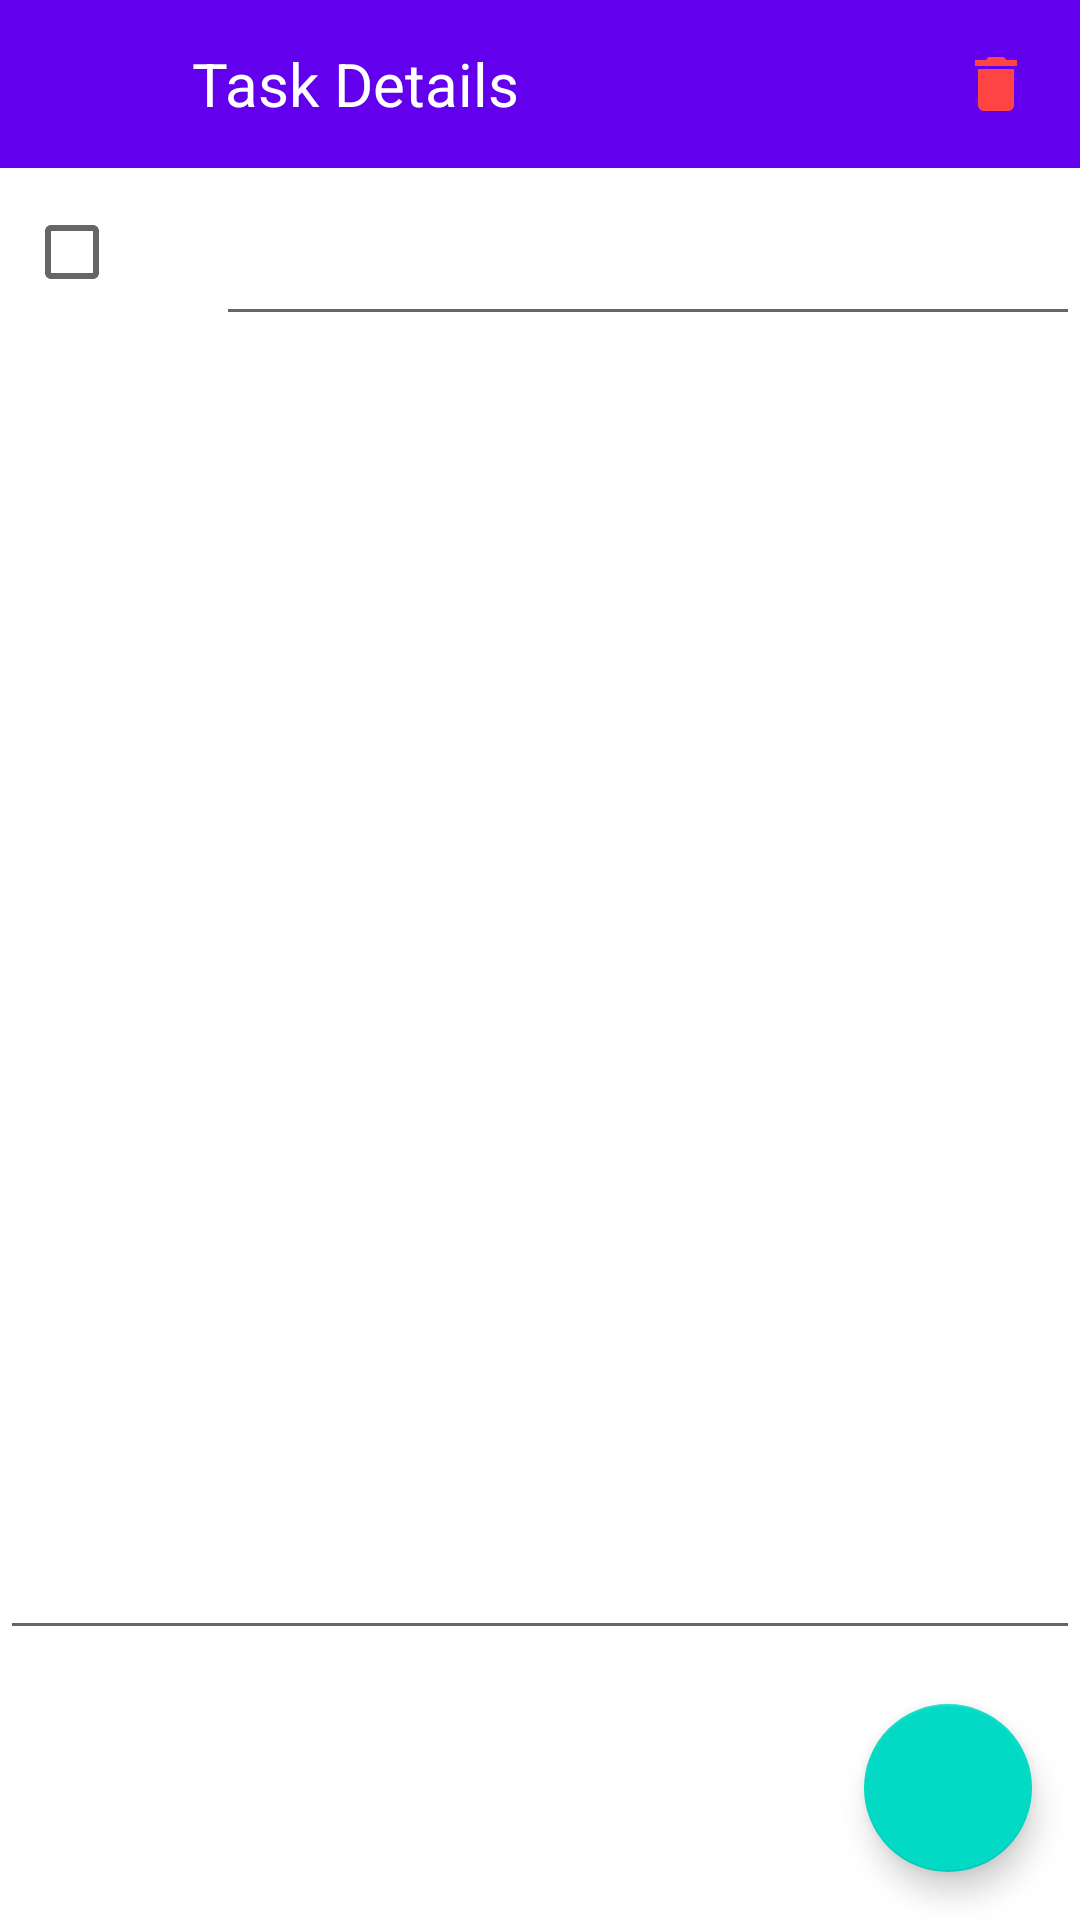

Icon bounding boxes for this 1080px×1920px phone screenshot, format (x1, y1, x2, y2):
Delete Task: (975, 57, 1017, 111)
